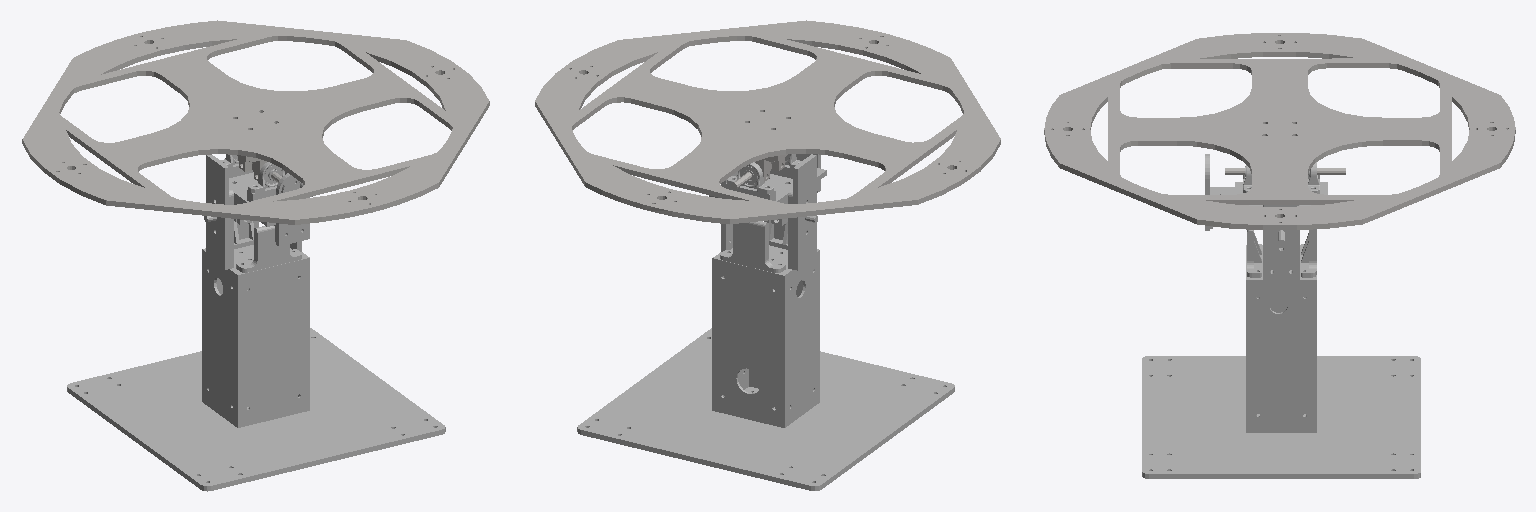
robot.urdf — URDF_V2:
<?xml version="1.0" encoding="utf-8"?>
<!-- This URDF was automatically created by SolidWorks to URDF Exporter! Originally created by [author] ([email redacted]) 
     Commit Version: 1.6.0-4-g7f85cfe  Build Version: 1.6.7995.38578
     For more information, please see http://wiki.ros.org/sw_urdf_exporter -->
<robot
  name="URDF_V2">
  <link
    name="base_link">
    <inertial>
      <origin
        xyz="0.112662642123337 0.0435961913100356 0.247459001132683"
        rpy="0 0 0" />
      <mass
        value="0.835049439032034" />
      <inertia
        ixx="0.00459108479638424"
        ixy="1.55416494251888E-19"
        ixz="-6.35925669996982E-20"
        iyy="0.00815237193812415"
        iyz="1.12431955833625E-07"
        izz="0.0046093924065789" />
    </inertial>
    <visual>
      <origin
        xyz="0 0 0"
        rpy="0 0 0" />
      <geometry>
        <mesh
          filename="package://URDF_V2/meshes/base_link.STL" />
      </geometry>
      <material
        name="">
        <color
          rgba="0.749019607843137 0.749019607843137 0.749019607843137 1" />
      </material>
    </visual>
    <collision>
      <origin
        xyz="0 0 0"
        rpy="0 0 0" />
      <geometry>
        <mesh
          filename="package://URDF_V2/meshes/base_link.STL" />
      </geometry>
    </collision>
  </link>
  <link
    name="link1">
    <inertial>
      <origin
        xyz="0.0616755661687693 -0.0190369806101637 0.0220965228246271"
        rpy="0 0 0" />
      <mass
        value="0.121233140077357" />
      <inertia
        ixx="4.42290041480953E-05"
        ixy="1.24717348389517E-10"
        ixz="-3.72771252890928E-10"
        iyy="4.23111631746693E-05"
        iyz="-7.72471756806447E-08"
        izz="6.67617083591906E-05" />
    </inertial>
    <visual>
      <origin
        xyz="0 0 0"
        rpy="0 0 0" />
      <geometry>
        <mesh
          filename="package://URDF_V2/meshes/link1.STL" />
      </geometry>
      <material
        name="">
        <color
          rgba="0.749019607843137 0.749019607843137 0.749019607843137 1" />
      </material>
    </visual>
    <collision>
      <origin
        xyz="0 0 0"
        rpy="0 0 0" />
      <geometry>
        <mesh
          filename="package://URDF_V2/meshes/link1.STL" />
      </geometry>
    </collision>
  </link>
  <joint
    name="joint1"
    type="revolute">
    <origin
      xyz="0.052285 -0.24746 0.22913"
      rpy="0.00028182 0 0" />
    <parent
      link="base_link" />
    <child
      link="link1" />
    <axis
      xyz="1 0 0" />
    <limit
      lower="-0.52332"
      upper="0.52388"
      effort="0"
      velocity="0" />
  </joint>
  <link
    name="link2">
    <inertial>
      <origin
        xyz="0.000136178233548334 0.00367218797104085 0.0680675460097938"
        rpy="0 0 0" />
      <mass
        value="1.1785585917192" />
      <inertia
        ixx="0.0130387045092571"
        ixy="-2.60962367223975E-07"
        ixz="-1.9446759051689E-08"
        iyy="0.0130303362155499"
        iyz="6.86769744606356E-10"
        izz="0.0254514746054841" />
    </inertial>
    <visual>
      <origin
        xyz="0 0 0"
        rpy="0 0 0" />
      <geometry>
        <mesh
          filename="package://URDF_V2/meshes/link2.STL" />
      </geometry>
      <material
        name="">
        <color
          rgba="0.745098039215686 0.737254901960784 0.729411764705882 1" />
      </material>
    </visual>
    <collision>
      <origin
        xyz="0 0 0"
        rpy="0 0 0" />
      <geometry>
        <mesh
          filename="package://URDF_V2/meshes/link2.STL" />
      </geometry>
    </collision>
  </link>
  <joint
    name="joint2"
    type="revolute">
    <origin
      xyz="0.061485 0 0.053"
      rpy="0 0.013885 -3.1416" />
    <parent
      link="link1" />
    <child
      link="link2" />
    <axis
      xyz="0 1 0" />
    <limit
      lower="-0.81798"
      upper="0.57716"
      effort="0"
      velocity="0" />
  </joint>
</robot>

--- What the picture shows (computed from the rendered views, not written in the file) ---
3 views of the same robot in one strip: view 1: azimuth 30°, elevation 25°; view 2: azimuth 150°, elevation 25°; view 3: azimuth 270°, elevation 25° (orthographic).
Model URDF_V2 with 3 links and 2 joints (2 revolute), rooted at base_link, posed every joint at zero.
Links seen in each view (by area): view 1: link2, base_link, link1; view 2: link2, base_link, link1; view 3: link2, base_link, link1.
Boxes of the visible links, box(x1,y1,x2,y2) form: link2: box(22, 20, 489, 224); base_link: box(67, 155, 445, 491); link1: box(204, 154, 312, 245); link2: box(535, 20, 1000, 224); base_link: box(577, 154, 954, 490); link1: box(709, 154, 826, 225); link2: box(1044, 33, 1515, 229); base_link: box(1142, 205, 1420, 478); link1: box(1205, 154, 1327, 246).
Bounding box of the posed robot: 0.5037 × 0.505 × 0.3472 m (x, y, z).
3 mesh visuals loaded from 3 distinct referenced files (3 binary STL).